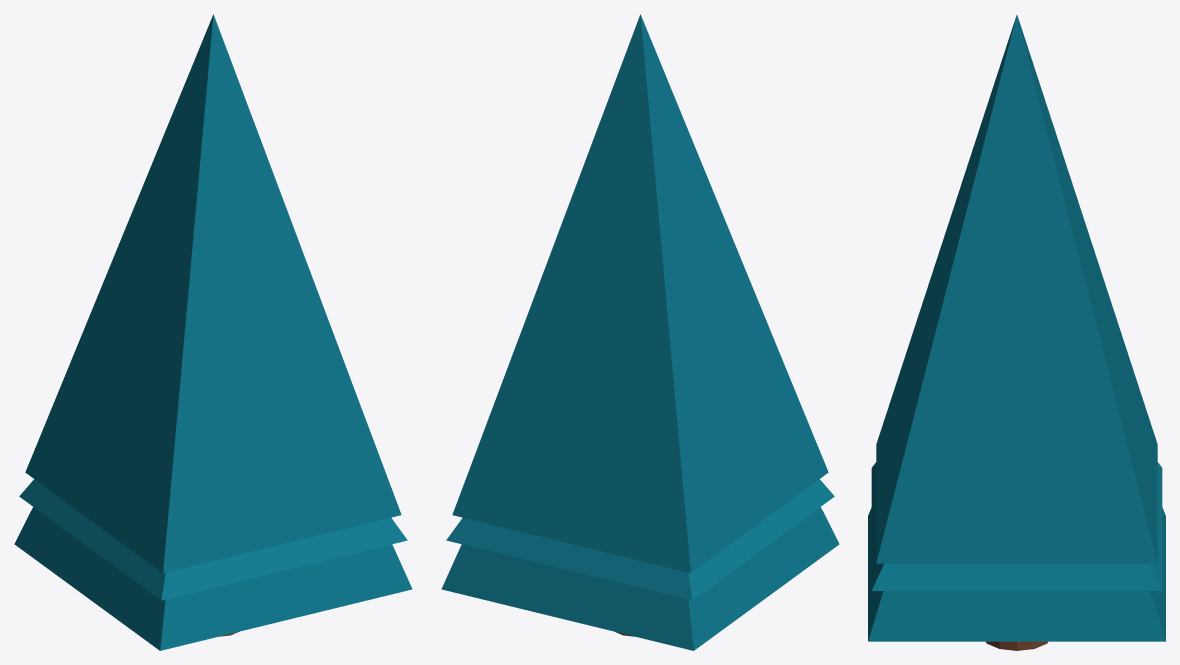
The model's file is Tree_34_summer_blue_vc.fbx.
The picture shows the model from 3 angles, left to right: view 1: azimuth 30°, elevation 25°; view 2: azimuth 150°, elevation 25°; view 3: azimuth 270°, elevation 25°; orthographic projection. The views are drawn at different scales.
Visible parts, largest first — view 1: Tree_34_summer_blue_vc; view 2: Tree_34_summer_blue_vc; view 3: Tree_34_summer_blue_vc.
Part boxes in pixels (<box>): Tree_34_summer_blue_vc: <box>14,14,412,650</box>; Tree_34_summer_blue_vc: <box>441,14,839,650</box>; Tree_34_summer_blue_vc: <box>868,15,1165,650</box>.
Bounding box in the file's own units: 83.78 × 193 × 83.78.
